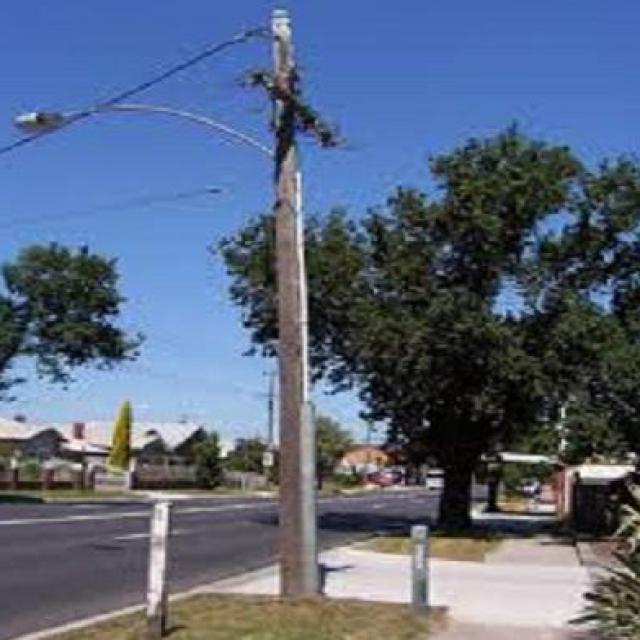non-critical vegetation: (202, 12, 368, 590)
